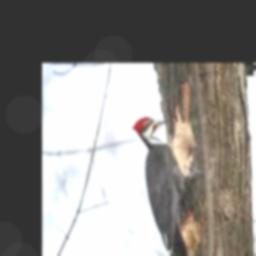Woodpecker: (133, 116, 198, 256)
